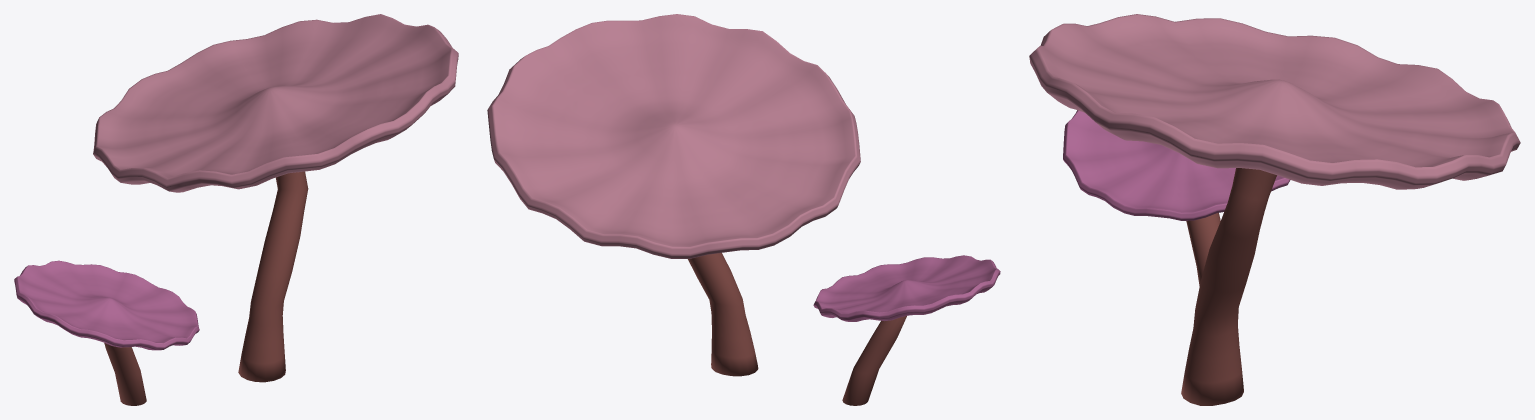
Rendered from mushroomFlowerCluster01_001.fbx.
3 renders of one model, left to right at view 1: azimuth 30°, elevation 25°; view 2: azimuth 150°, elevation 25°; view 3: azimuth 270°, elevation 25°, orthographic. The views are drawn at different scales.
Parts seen in each view (by area): view 1: Cylinder, Cylinder.002; view 2: Cylinder, Cylinder.002; view 3: Cylinder, Cylinder.002.
Part boxes in pixels (left/top/right/bottom): Cylinder: left=93, top=14, right=458, bottom=382; Cylinder.002: left=14, top=260, right=199, bottom=405; Cylinder: left=487, top=14, right=860, bottom=376; Cylinder.002: left=813, top=255, right=1000, bottom=405; Cylinder: left=1029, top=14, right=1520, bottom=405; Cylinder.002: left=1063, top=110, right=1290, bottom=285.
Bounding box in the file's own units: 241 × 151 × 176.
